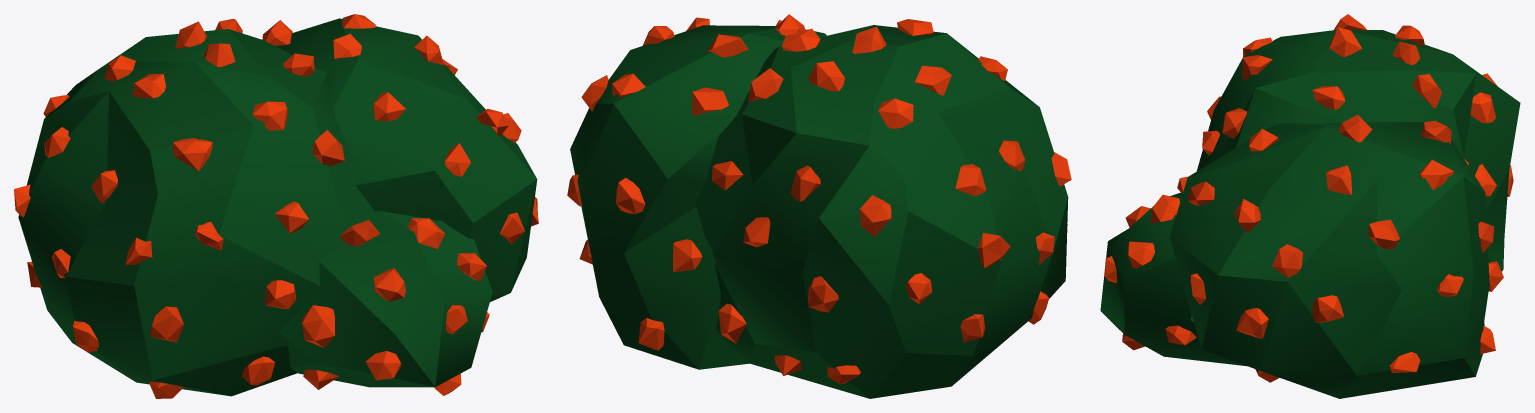
Rendered from Bush1_WF.fbx.
3 renders of one model, left to right at view 1: azimuth 30°, elevation 25°; view 2: azimuth 150°, elevation 25°; view 3: azimuth 270°, elevation 25°, orthographic. The views are drawn at different scales.
Visible parts, largest first — view 1: Bush1_WF; view 2: Bush1_WF; view 3: Bush1_WF.
Boxes of the visible parts, left/top/right/bottom form: Bush1_WF: left=14, top=14, right=538, bottom=398; Bush1_WF: left=567, top=14, right=1071, bottom=398; Bush1_WF: left=1100, top=14, right=1520, bottom=398.
Size of the model in its own units: 45.9 by 29.55 by 40.83.
